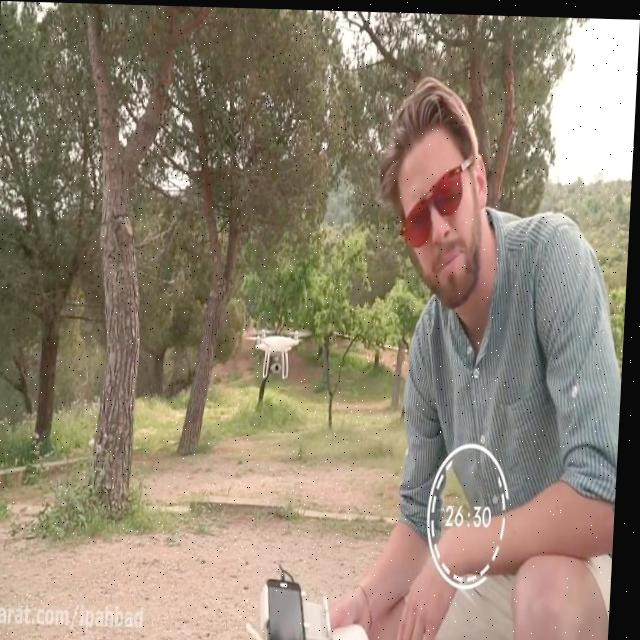drone: (243, 319, 317, 377)
